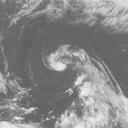cyclone: (42, 40, 94, 79)
